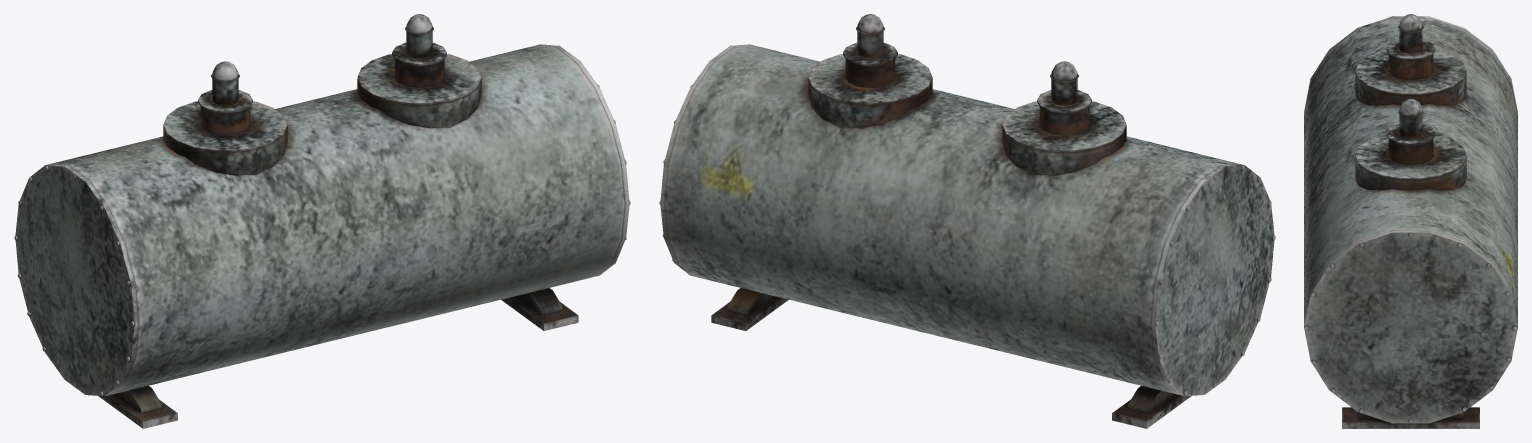
File: tank_oil.glb
3 renders of one model, left to right at view 1: azimuth 30°, elevation 25°; view 2: azimuth 150°, elevation 25°; view 3: azimuth 270°, elevation 25°, orthographic. The views are drawn at different scales.
Parts seen in each view (by area): view 1: tank_oil; view 2: tank_oil; view 3: tank_oil.
Part boxes in pixels (bbox=[...]): tank_oil: bbox=[14, 14, 630, 428]; tank_oil: bbox=[659, 14, 1275, 428]; tank_oil: bbox=[1304, 14, 1517, 428].
Size of the model in its own units: 1.6 by 0.9254 by 0.6488.
Materials: 1 (1 with a texture image).
